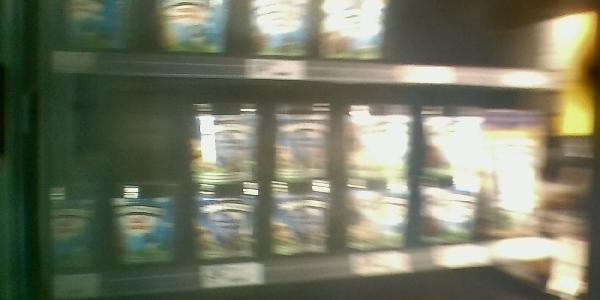icecream: (188, 167, 274, 270), (484, 118, 546, 240), (197, 93, 272, 189), (117, 177, 191, 271), (345, 94, 414, 192), (47, 181, 109, 285), (267, 103, 341, 187), (270, 175, 337, 265), (345, 180, 419, 260), (424, 104, 490, 192), (425, 187, 486, 245)
